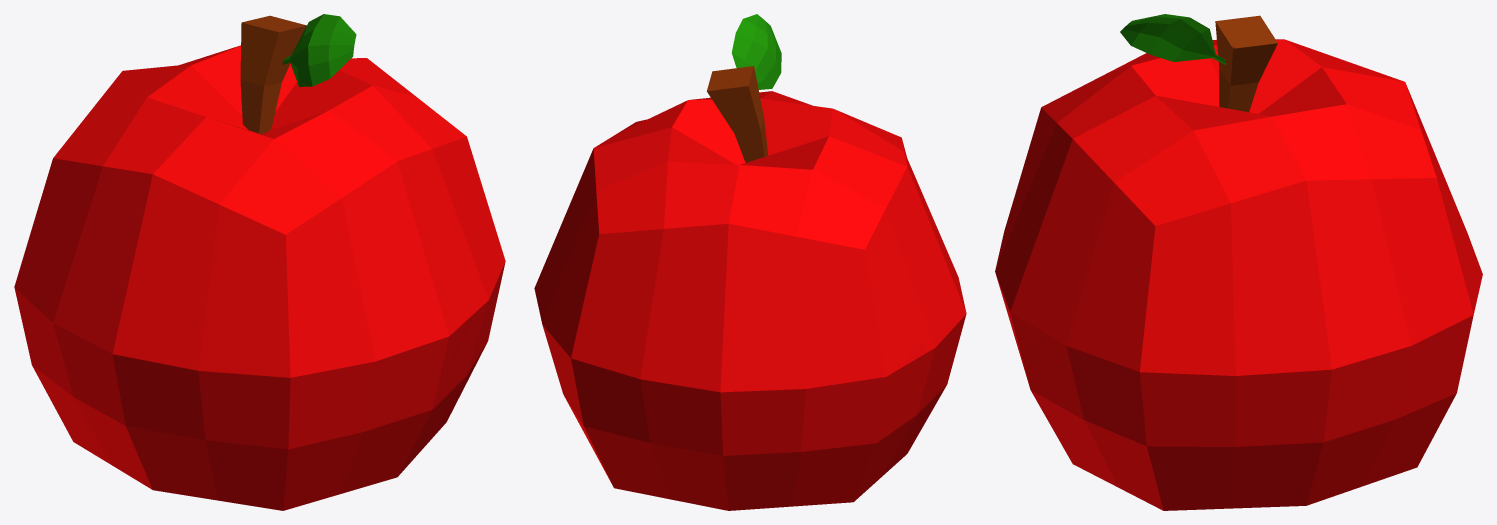
The model's file is apple.obj.
The picture shows the model from 3 angles, left to right: view 1: azimuth 30°, elevation 25°; view 2: azimuth 150°, elevation 25°; view 3: azimuth 270°, elevation 25°; orthographic projection. The views are drawn at different scales.
Visible parts, largest first — view 1: apple_Plane.001; view 2: apple_Plane.001; view 3: apple_Plane.001.
Boxes of the visible parts, x1,y1,x2,y2 form: apple_Plane.001: (14,14,505,510); apple_Plane.001: (534,14,966,510); apple_Plane.001: (995,14,1482,510).
Bounding box in the file's own units: 2.72 × 2.89 × 2.72.
3 materials, 3 textured.
